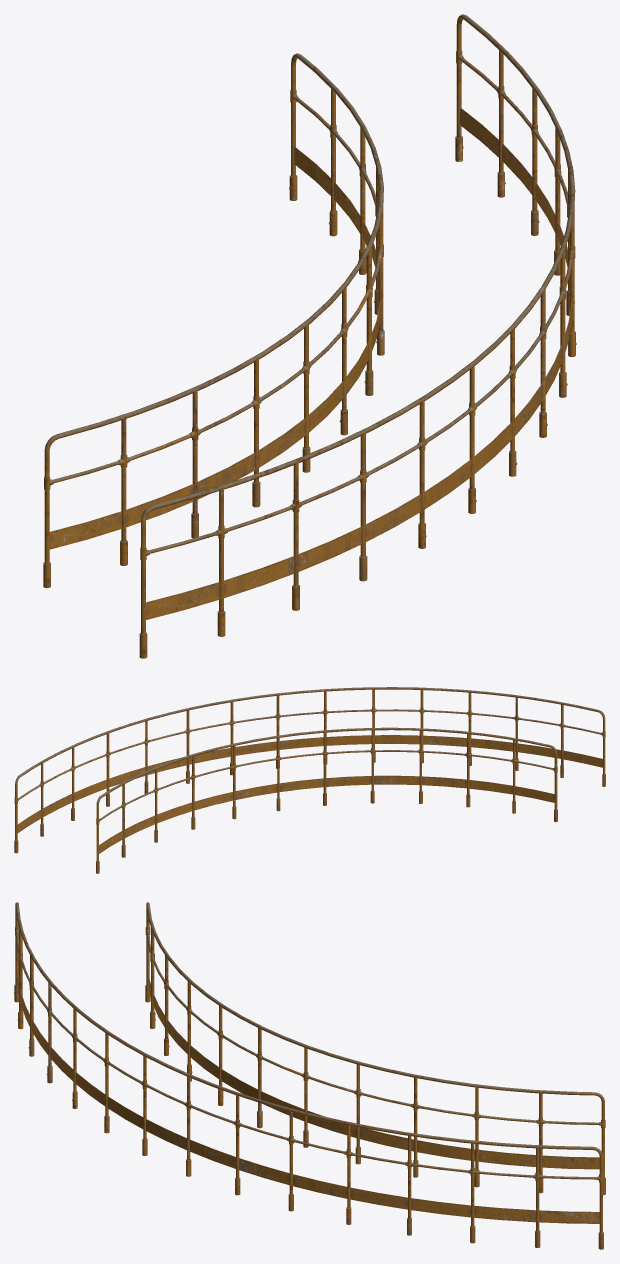
The model's file is Railings01_Curve01.fbx.
3 renders of one model, top to bottom at view 1: azimuth 30°, elevation 25°; view 2: azimuth 150°, elevation 25°; view 3: azimuth 270°, elevation 25°, orthographic. The views are drawn at different scales.
Visible parts, largest first — view 1: Railings01_Curve01_LOD0; view 2: Railings01_Curve01_LOD0; view 3: Railings01_Curve01_LOD0.
Boxes of the visible parts, x1=… form: Railings01_Curve01_LOD0: x1=43, y1=14, x2=576, y2=658; Railings01_Curve01_LOD0: x1=14, y1=687, x2=605, y2=873; Railings01_Curve01_LOD0: x1=14, y1=902, x2=605, y2=1249.
Size of what is drawn, in the model's own units: 677 by 129 by 679.
